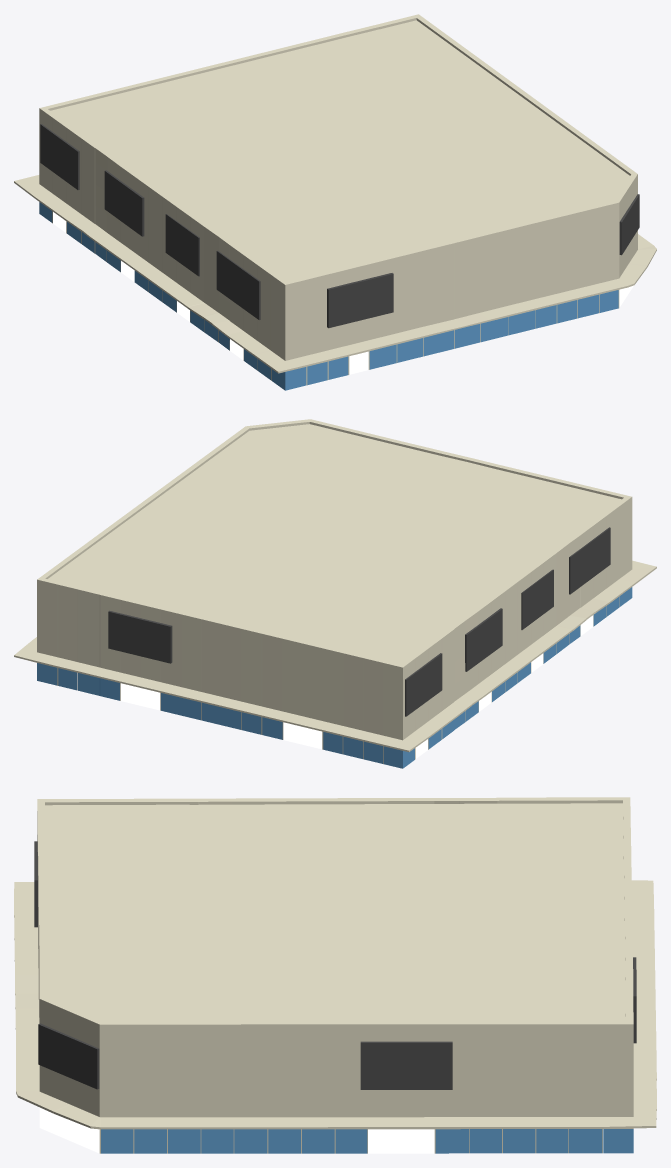
The model's file is plein1_keuken.glb.
3 views of the same model, one above another, from view 1: azimuth 30°, elevation 25°; view 2: azimuth 150°, elevation 25°; view 3: azimuth 270°, elevation 25° (orthographic). The views are drawn at different scales.
Visible parts, largest first — view 1: Cube.008; view 2: Cube.008; view 3: Cube.008.
Part boxes in pixels (x1,y1,x2,y2): Cube.008: (14, 14, 656, 390); Cube.008: (14, 419, 656, 768); Cube.008: (14, 797, 656, 1153).
Bounding box in the file's own units: 220 × 53.59 × 242.
